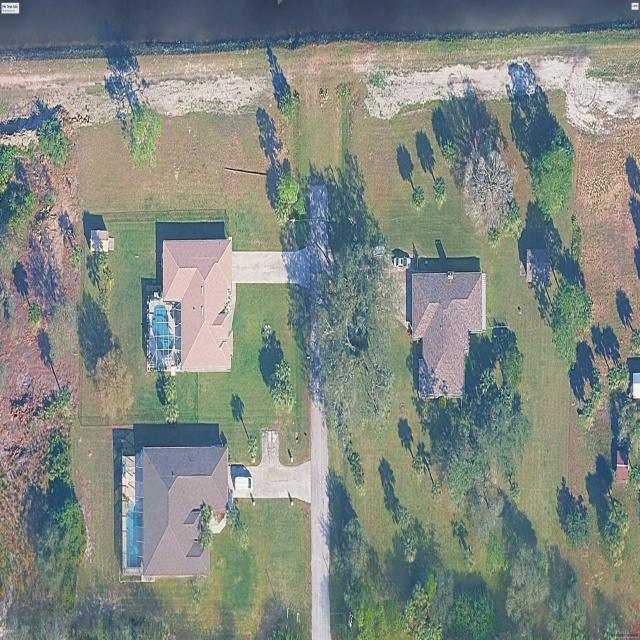Home: (136, 447, 229, 577), (162, 238, 234, 372), (411, 271, 486, 398)
